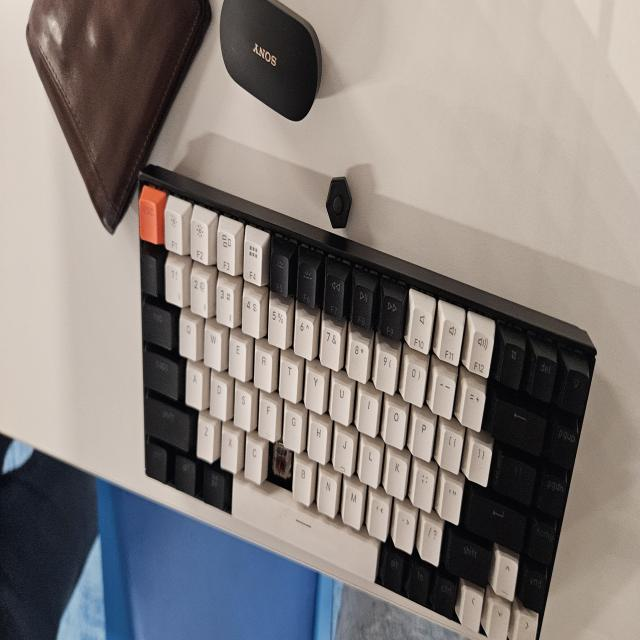C: (271, 448, 289, 487)
